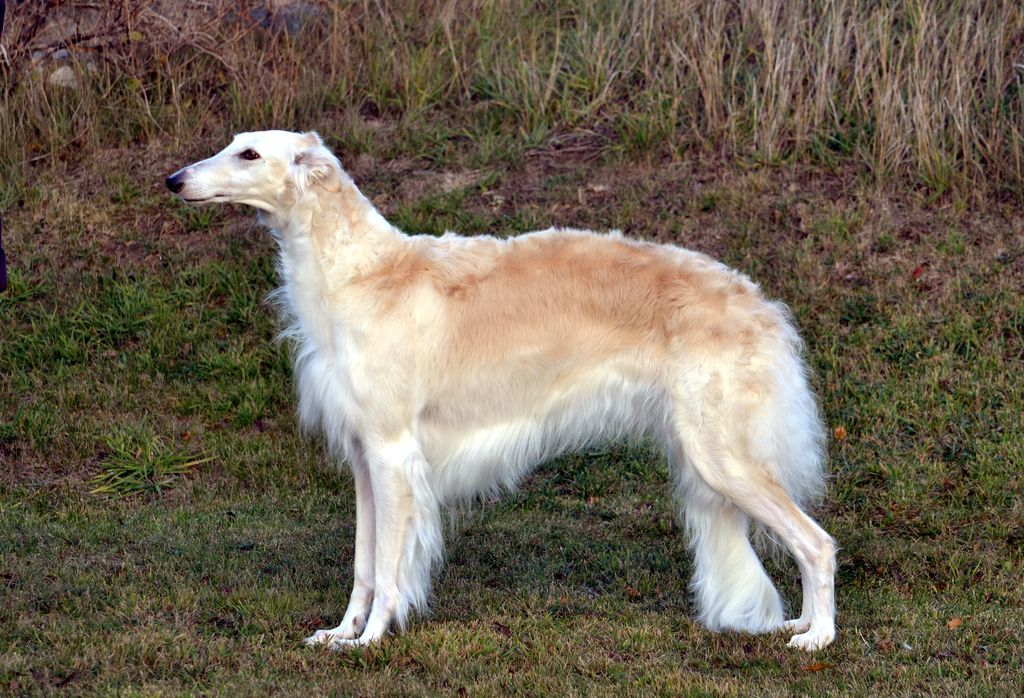borzoi: (156, 123, 866, 657)
